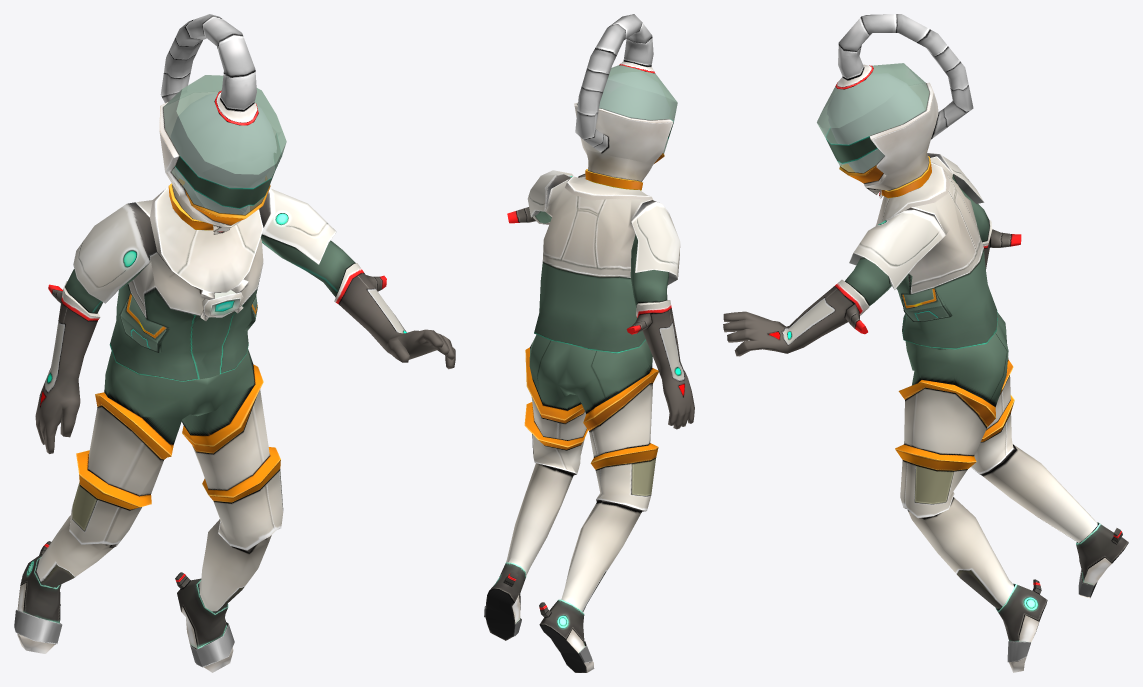
File: F_perseo_pose.gltf
The picture shows the model from 3 angles, left to right: view 1: azimuth 30°, elevation 25°; view 2: azimuth 150°, elevation 25°; view 3: azimuth 270°, elevation 25°; orthographic projection. The views are drawn at different scales.
Visible parts, largest first — view 1: F_PERSEO_UPPER, F_PERSEO_LOWER, F_PERSEO_MASK, F_PERSEO_FEET, M_head.004; view 2: F_PERSEO_LOWER, F_PERSEO_UPPER, F_PERSEO_MASK, F_PERSEO_FEET; view 3: F_PERSEO_LOWER, F_PERSEO_UPPER, F_PERSEO_MASK, F_PERSEO_FEET, M_head.004.
Part boxes in pixels (x1,y1,x2,y2): F_PERSEO_UPPER: [35, 188, 455, 453]; F_PERSEO_LOWER: [36, 349, 283, 611]; F_PERSEO_MASK: [159, 14, 286, 234]; F_PERSEO_FEET: [14, 541, 234, 672]; M_head.004: [174, 152, 273, 214]; F_PERSEO_LOWER: [506, 334, 658, 611]; F_PERSEO_UPPER: [507, 170, 694, 429]; F_PERSEO_MASK: [574, 14, 677, 190]; F_PERSEO_FEET: [484, 562, 594, 672]; F_PERSEO_LOWER: [895, 312, 1097, 608]; F_PERSEO_UPPER: [723, 153, 1021, 356]; F_PERSEO_MASK: [817, 14, 973, 198]; F_PERSEO_FEET: [995, 522, 1128, 672]; M_head.004: [828, 76, 890, 172].
Bounding box in the file's own units: 1.74 × 4.18 × 2.45.
Materials: 4 (2 with a texture image).
